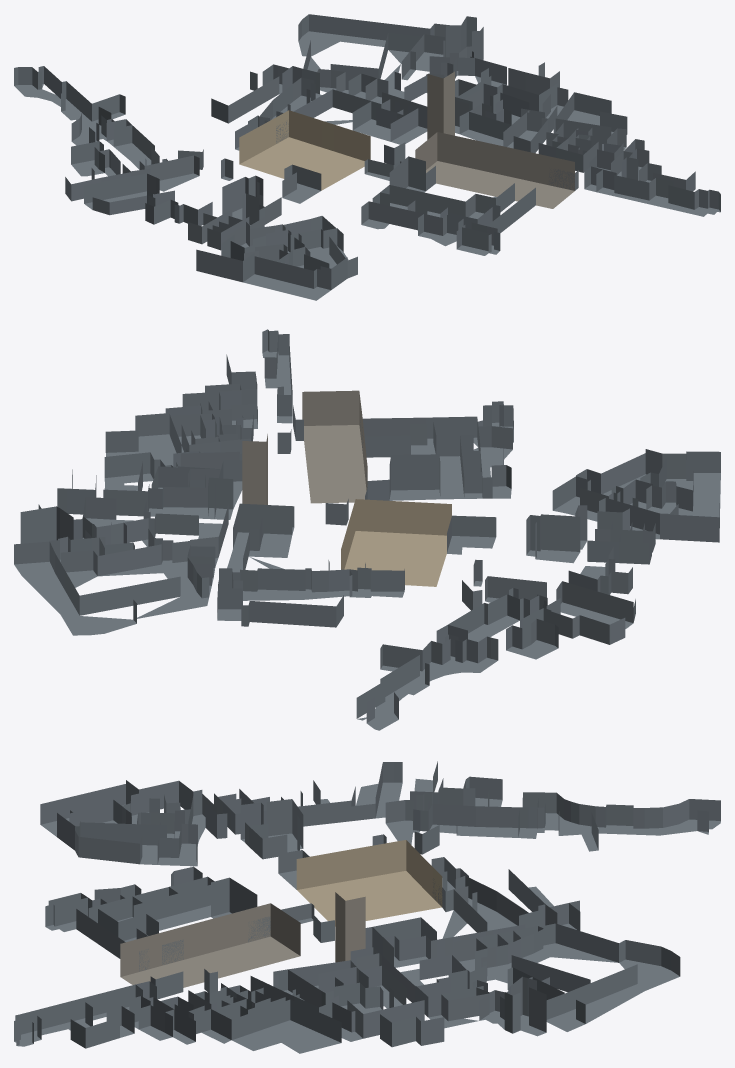
The model's file is edifici_OSM_altezze_approssimate.glb.
3 renders of one model, top to bottom at view 1: azimuth 30°, elevation 25°; view 2: azimuth 150°, elevation 25°; view 3: azimuth 270°, elevation 25°, orthographic. The views are drawn at different scales.
Visible parts, largest first — view 1: osm_way_261250167, osm_way_261249895, osm_way_271131870, osm_way_270217979, osm_way_261251209, osm_way_250141406, osm_way_150562144, osm_way_270228351, osm_way_262931638, osm_way_270212726, osm_way_250141582, osm_way_1448690489 (+42 smaller); view 2: osm_way_271131870, osm_way_261249895, osm_way_261250167, osm_way_270217979, osm_way_270228351, osm_way_262931638, osm_way_261253328, osm_way_270900138, osm_way_261252278, osm_way_1448690489, osm_way_270212726, osm_way_261251393 (+44 smaller); view 3: osm_way_271131870, osm_way_261250167, osm_way_261249895, osm_way_270217979, osm_way_262931638, osm_way_261251209, osm_way_270910698, osm_way_261253328, osm_way_1425647393, osm_way_270228351, osm_way_250141974, osm_way_150562144 (+59 smaller).
Boxes of the visible parts, x1=… form: osm_way_261250167: x1=415, y1=132, x2=574, y2=208; osm_way_261249895: x1=239, y1=110, x2=370, y2=190; osm_way_271131870: x1=298, y1=14, x2=449, y2=94; osm_way_270217979: x1=14, y1=66, x2=125, y2=145; osm_way_261251209: x1=596, y1=169, x2=720, y2=216; osm_way_250141406: x1=243, y1=256, x2=331, y2=300; osm_way_150562144: x1=427, y1=71, x2=454, y2=139; osm_way_270228351: x1=276, y1=83, x2=390, y2=124; osm_way_262931638: x1=556, y1=92, x2=627, y2=134; osm_way_270212726: x1=84, y1=173, x2=159, y2=209; osm_way_250141582: x1=196, y1=235, x2=254, y2=282; osm_way_1448690489: x1=211, y1=71, x2=279, y2=123; osm_way_271131870: x1=14, y1=541, x2=209, y2=635; osm_way_261249895: x1=341, y1=499, x2=451, y2=586; osm_way_261250167: x1=302, y1=390, x2=367, y2=503; osm_way_270217979: x1=356, y1=634, x2=498, y2=730; osm_way_270228351: x1=219, y1=530, x2=329, y2=592; osm_way_262931638: x1=105, y1=413, x2=181, y2=466; osm_way_261253328: x1=143, y1=504, x2=228, y2=562; osm_way_270900138: x1=526, y1=514, x2=580, y2=563; osm_way_261252278: x1=389, y1=454, x2=440, y2=500; osm_way_1448690489: x1=241, y1=595, x2=343, y2=627; osm_way_270212726: x1=556, y1=581, x2=633, y2=628; osm_way_261251393: x1=410, y1=416, x2=479, y2=454; osm_way_271131870: x1=475, y1=923, x2=680, y2=1031; osm_way_261250167: x1=120, y1=903, x2=300, y2=987; osm_way_261249895: x1=296, y1=840, x2=442, y2=926; osm_way_270217979: x1=522, y1=792, x2=720, y2=851; osm_way_262931638: x1=231, y1=999, x2=341, y2=1053; osm_way_261251209: x1=14, y1=984, x2=142, y2=1046; osm_way_270910698: x1=428, y1=804, x2=519, y2=837; osm_way_261253328: x1=382, y1=955, x2=487, y2=1002; osm_way_1425647393: x1=133, y1=885, x2=210, y2=930; osm_way_270228351: x1=424, y1=889, x2=525, y2=958; osm_way_250141974: x1=79, y1=822, x2=166, y2=864; osm_way_150562144: x1=335, y1=892, x2=365, y2=962.
Bounding box in the file's own units: 372 × 48 × 404.
